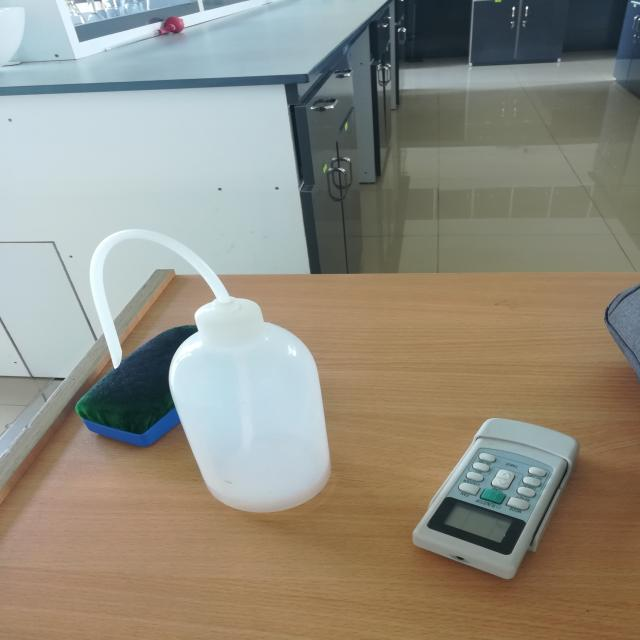Wash_Bottle: (50, 197, 351, 542)
